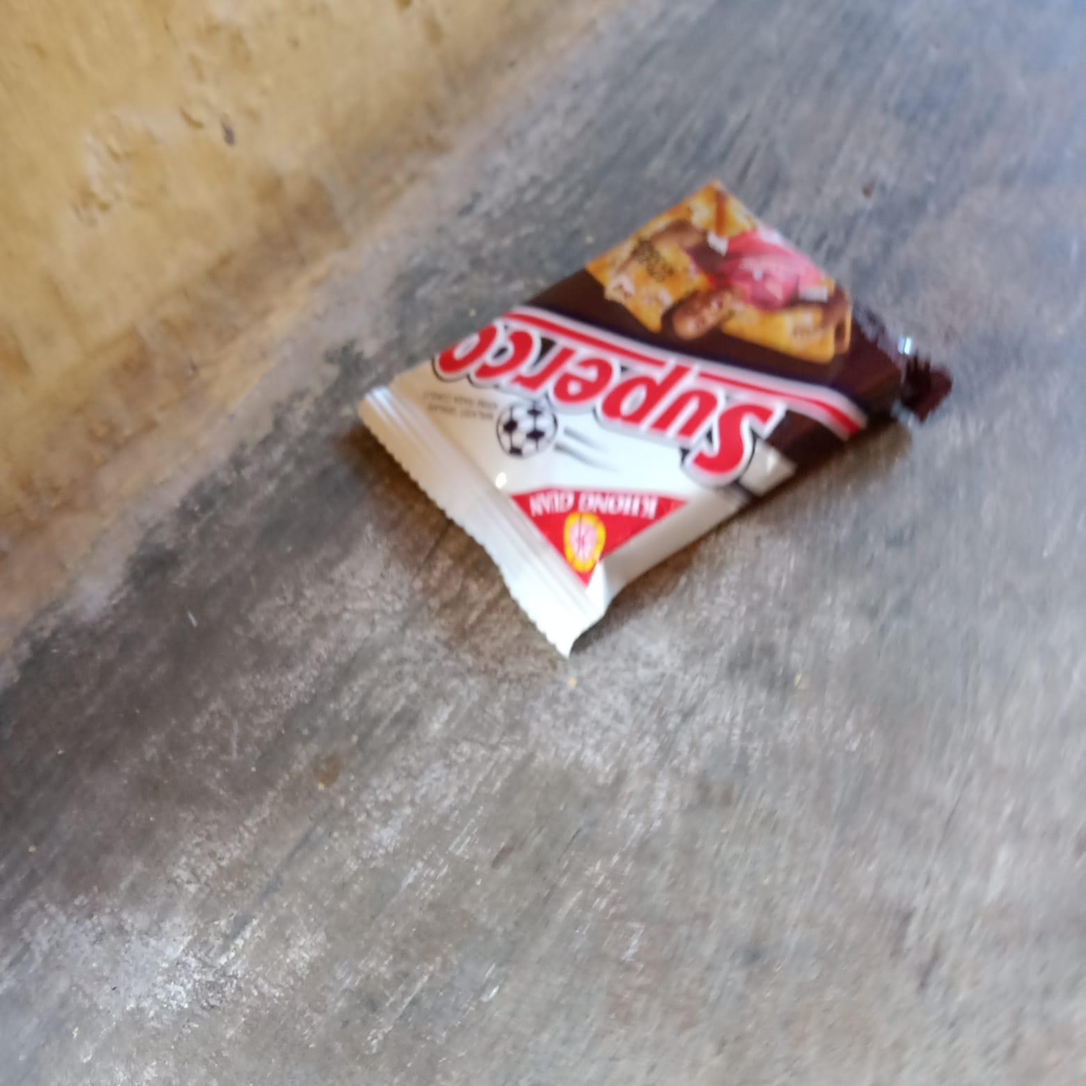Plastik: (354, 178, 954, 664)
